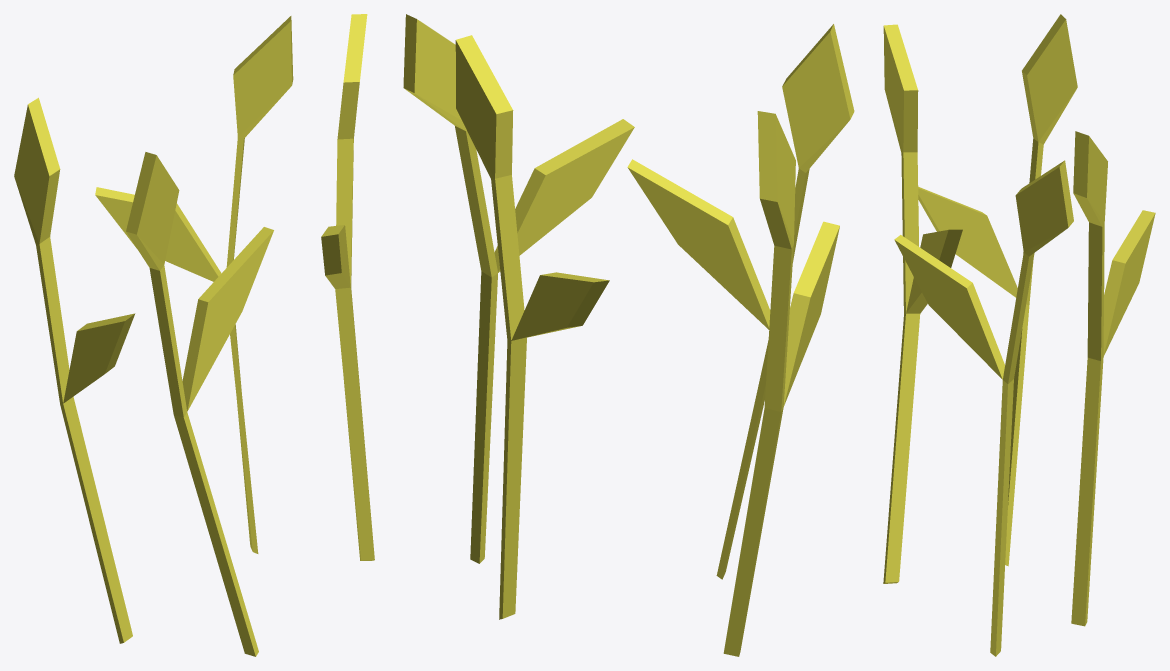
The model's file is Wheat_0.fbx.
The picture shows the model from 3 angles, left to right: view 1: azimuth 30°, elevation 25°; view 2: azimuth 150°, elevation 25°; view 3: azimuth 270°, elevation 25°; orthographic projection. The views are drawn at different scales.
Visible parts, largest first — view 1: Plane.015; view 2: Plane.015; view 3: Plane.015.
Boxes of the visible parts, box(x1,y1,x2,y2) form: Plane.015: box(14, 14, 374, 656); Plane.015: box(403, 14, 854, 656); Plane.015: box(883, 14, 1155, 656).
Bounding box in the file's own units: 38.26 × 57.49 × 26.76.
